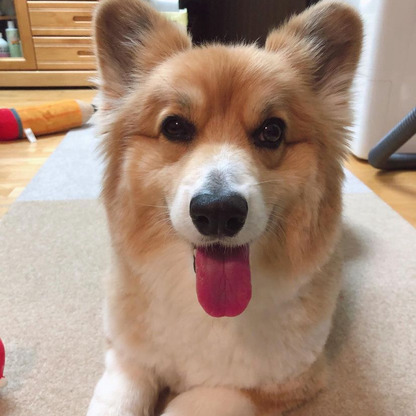Corgi: (79, 6, 376, 400)
